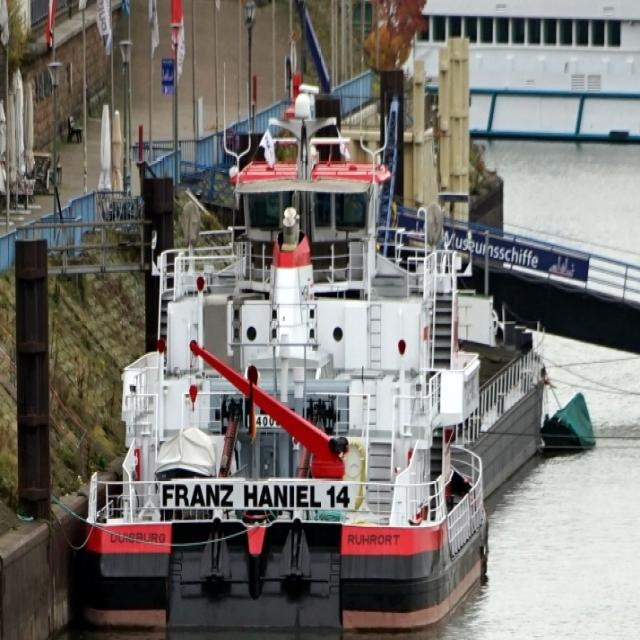tugboat: (79, 79, 498, 640)
